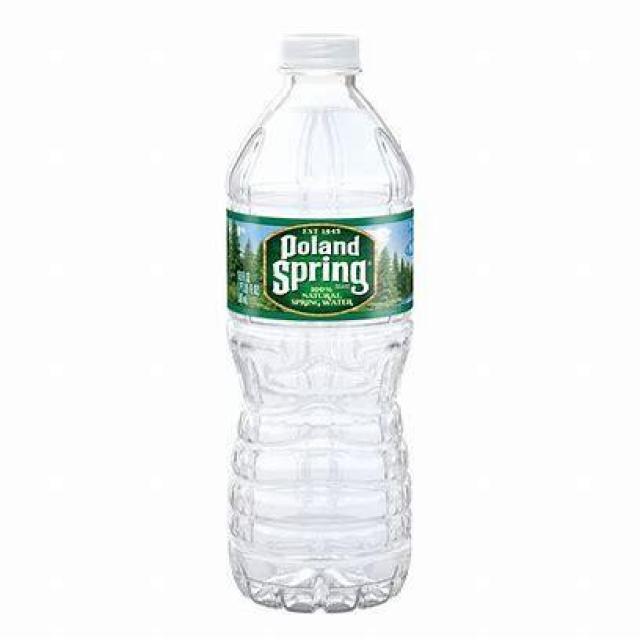bottle: (225, 25, 415, 617)
